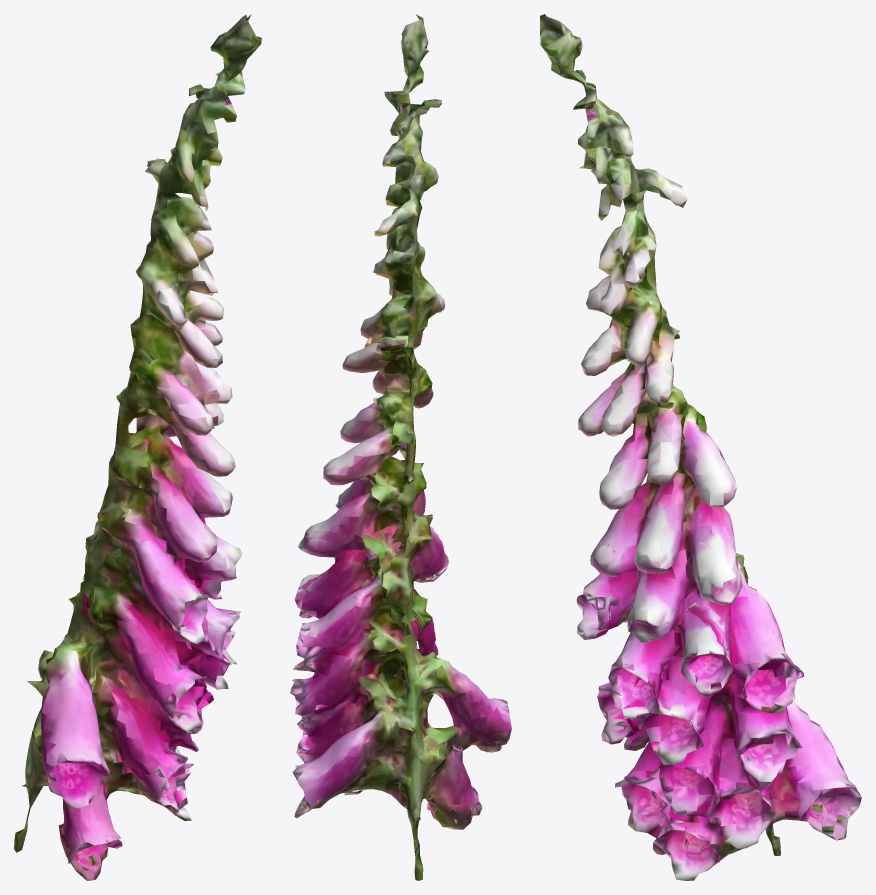
The picture shows the model from 3 angles, left to right: view 1: azimuth 30°, elevation 25°; view 2: azimuth 150°, elevation 25°; view 3: azimuth 270°, elevation 25°; orthographic projection. The views are drawn at different scales.
Parts seen in each view (by area): view 1: e864ad42; view 2: e864ad42; view 3: e864ad42.
Part boxes in pixels (<box>): e864ad42: <box>14,14,261,880</box>; e864ad42: <box>290,14,511,880</box>; e864ad42: <box>540,14,861,880</box>.
Bounding box in the file's own units: 0.0721 × 0.2951 × 0.0957.
1 material, 1 textured.
